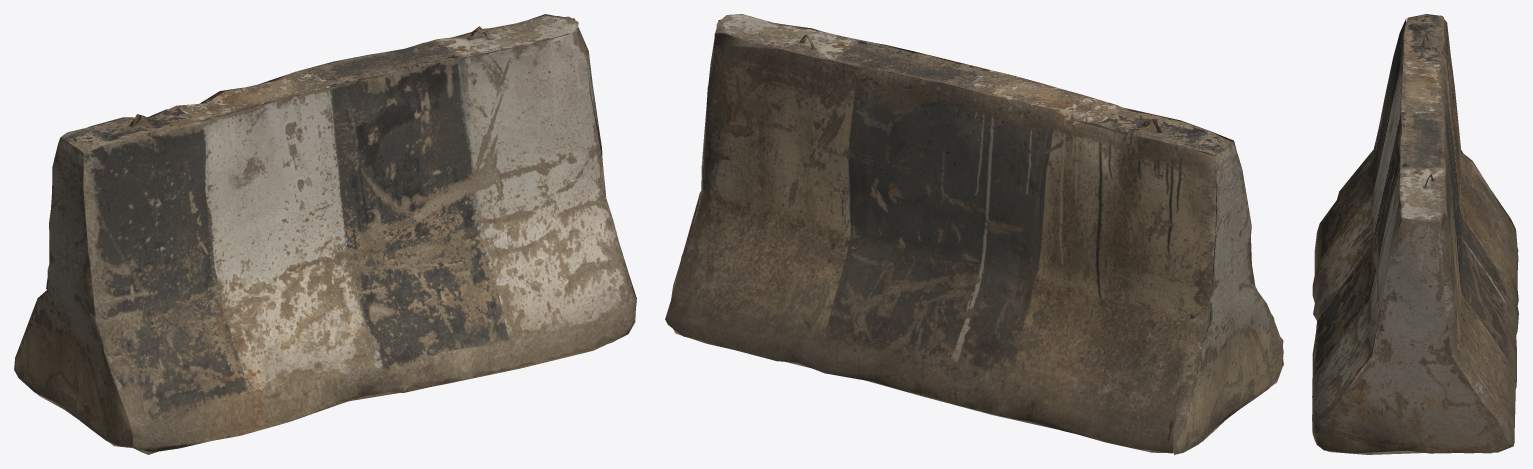
File: road_barrier.glb
The picture shows the model from 3 angles, left to right: view 1: azimuth 30°, elevation 25°; view 2: azimuth 150°, elevation 25°; view 3: azimuth 270°, elevation 25°; orthographic projection. The views are drawn at different scales.
Visible parts, largest first — view 1: road_barrier; view 2: road_barrier; view 3: road_barrier.
Part boxes in pixels (x1,y1,x2,y2): road_barrier: [14, 14, 636, 454]; road_barrier: [665, 14, 1283, 454]; road_barrier: [1312, 14, 1518, 454].
Size of the model in its own units: 1.54 by 0.8319 by 0.6343.
1 material, 1 textured.
